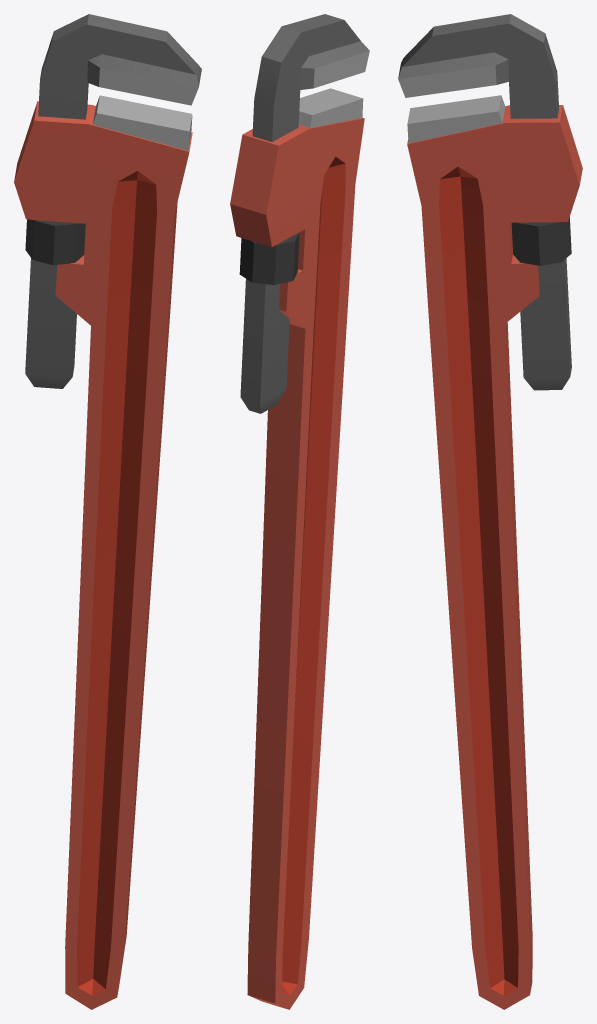
Rendered from PipeWrench_ML.glb.
3 renders of one model, left to right at view 1: azimuth 90°, elevation 25°; view 2: azimuth 150°, elevation 25°; view 3: azimuth 270°, elevation 25°, orthographic.
Parts seen in each view (by area): view 1: PipeWrench; view 2: PipeWrench; view 3: PipeWrench.
Part boxes in pixels (x1,y1,x2,y2): PipeWrench: (14, 14, 201, 1009); PipeWrench: (230, 14, 369, 1009); PipeWrench: (398, 14, 582, 1009).
Size of the model in its own units: 0.0836 by 1.37 by 0.2342.
1 material, 1 textured.
